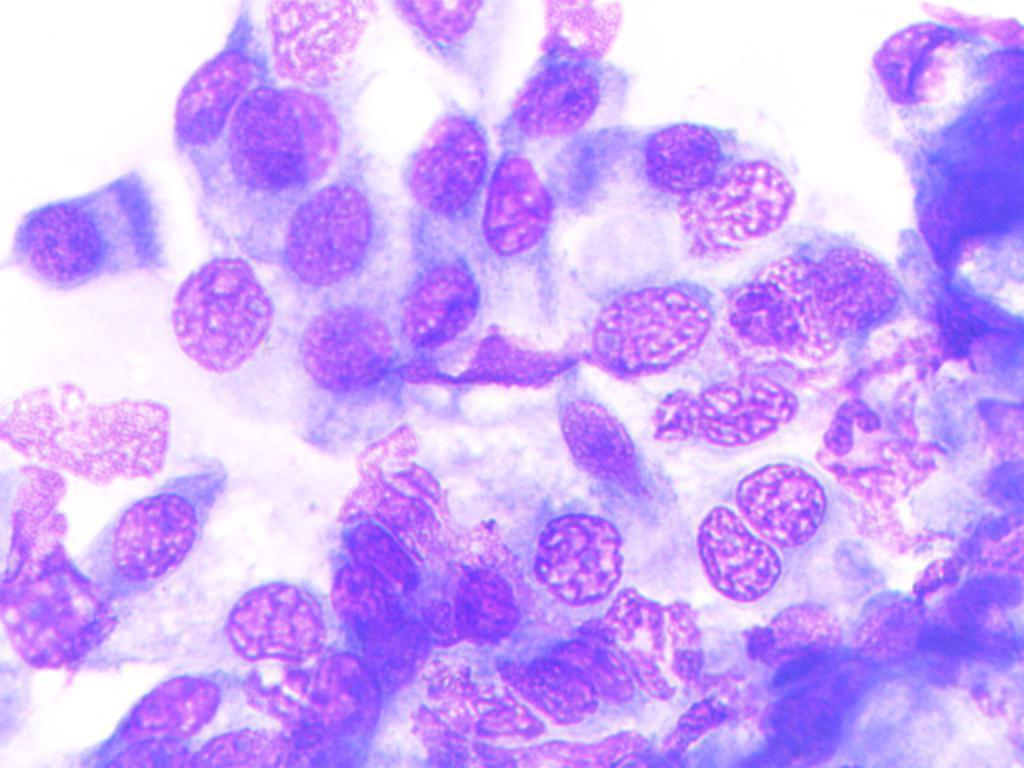artifact: (0, 489, 118, 671), (0, 382, 172, 486)
ciliated: (6, 169, 170, 291)
epithelial: (541, 381, 679, 517), (163, 252, 275, 381), (575, 280, 717, 375), (677, 160, 798, 268), (563, 118, 722, 195), (96, 479, 212, 583), (227, 85, 344, 188), (392, 102, 484, 217), (291, 295, 391, 399), (528, 505, 632, 604), (155, 45, 254, 145), (284, 186, 379, 286), (394, 242, 480, 350), (263, 0, 374, 83), (220, 579, 325, 663), (508, 62, 620, 138), (697, 505, 777, 608), (736, 457, 827, 546), (812, 243, 899, 331), (116, 666, 218, 739), (696, 376, 801, 443), (757, 593, 837, 673), (564, 630, 642, 712), (327, 561, 407, 637), (347, 522, 426, 598), (524, 653, 598, 721), (453, 568, 519, 641)
goblet_cell: (861, 16, 1024, 120)
neutrophil: (726, 281, 804, 352), (814, 388, 887, 461)
